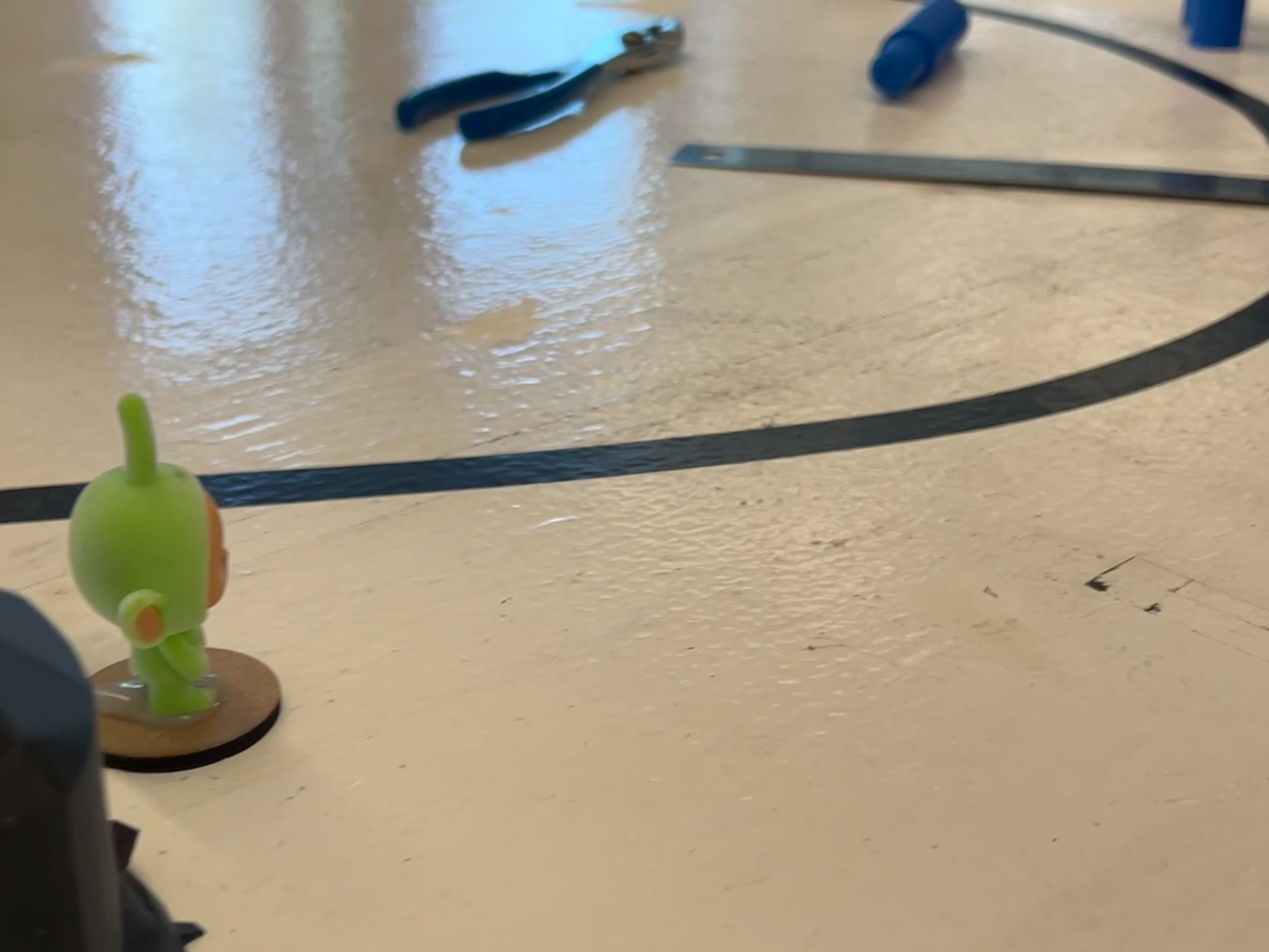teletubby: (69, 393, 227, 721)
